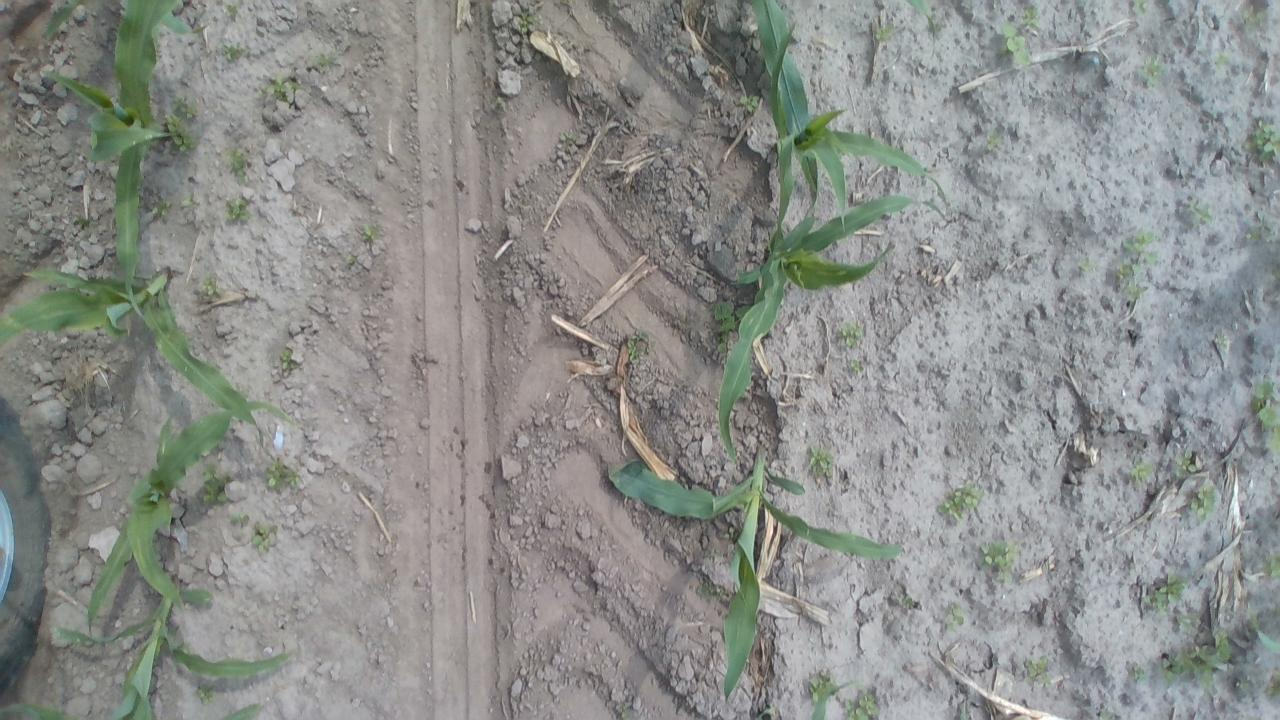Maize: (602, 442, 904, 702), (714, 188, 920, 467), (80, 397, 303, 637), (740, 0, 949, 235), (44, 0, 185, 327), (0, 265, 262, 432), (0, 586, 294, 720)
Weeds: (1157, 630, 1232, 691), (1251, 377, 1280, 458), (978, 536, 1020, 584), (940, 482, 986, 521), (1243, 120, 1280, 166), (710, 300, 754, 338), (1113, 258, 1150, 303), (162, 114, 200, 156), (262, 458, 304, 496), (198, 462, 233, 507), (998, 24, 1032, 69), (1151, 573, 1186, 612), (1021, 654, 1058, 690), (259, 76, 300, 108), (808, 670, 842, 706), (1188, 480, 1218, 520), (1120, 231, 1162, 259), (848, 687, 882, 720), (834, 317, 866, 352), (626, 327, 656, 363), (806, 446, 838, 479), (1138, 53, 1168, 88), (228, 147, 254, 185), (1126, 459, 1157, 490), (223, 193, 252, 226), (1174, 446, 1202, 479), (170, 94, 200, 124), (869, 18, 899, 48), (252, 521, 280, 553), (1237, 3, 1267, 32), (693, 578, 725, 605), (1172, 610, 1206, 633), (1190, 206, 1220, 232), (944, 603, 967, 635), (308, 49, 340, 72), (980, 126, 1004, 155), (193, 681, 221, 705), (1018, 5, 1042, 31), (150, 195, 173, 222), (279, 348, 303, 373), (890, 592, 919, 612), (198, 274, 222, 298), (360, 222, 384, 245), (516, 9, 538, 34), (228, 510, 254, 531), (1262, 668, 1280, 698), (702, 548, 732, 566), (1128, 662, 1148, 688), (1264, 550, 1280, 582), (738, 94, 762, 115), (556, 126, 580, 146), (1075, 257, 1100, 276), (222, 43, 244, 63), (1098, 703, 1122, 720), (180, 190, 200, 210), (1128, 0, 1153, 16), (844, 360, 866, 378), (616, 702, 638, 720), (716, 340, 730, 368), (1244, 226, 1262, 246), (342, 250, 359, 270), (1215, 50, 1231, 71), (720, 523, 737, 540), (486, 94, 506, 108), (1212, 334, 1229, 350), (1236, 676, 1252, 692), (222, 4, 240, 18)
